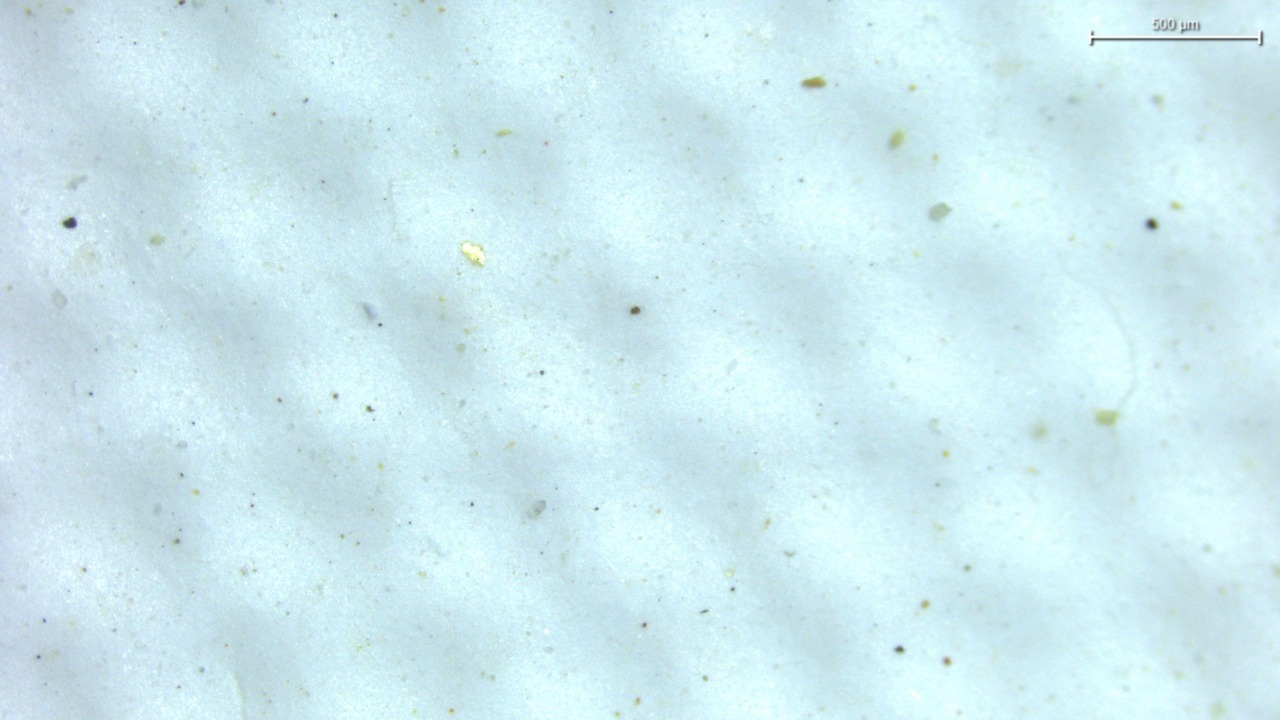microplastic_fragment: (461, 241, 485, 266)
